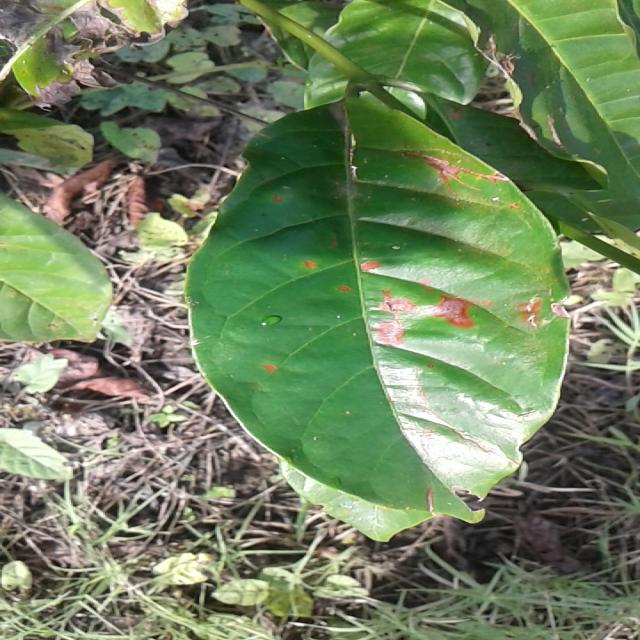Plaga-AranaRoja: (185, 96, 572, 546)
